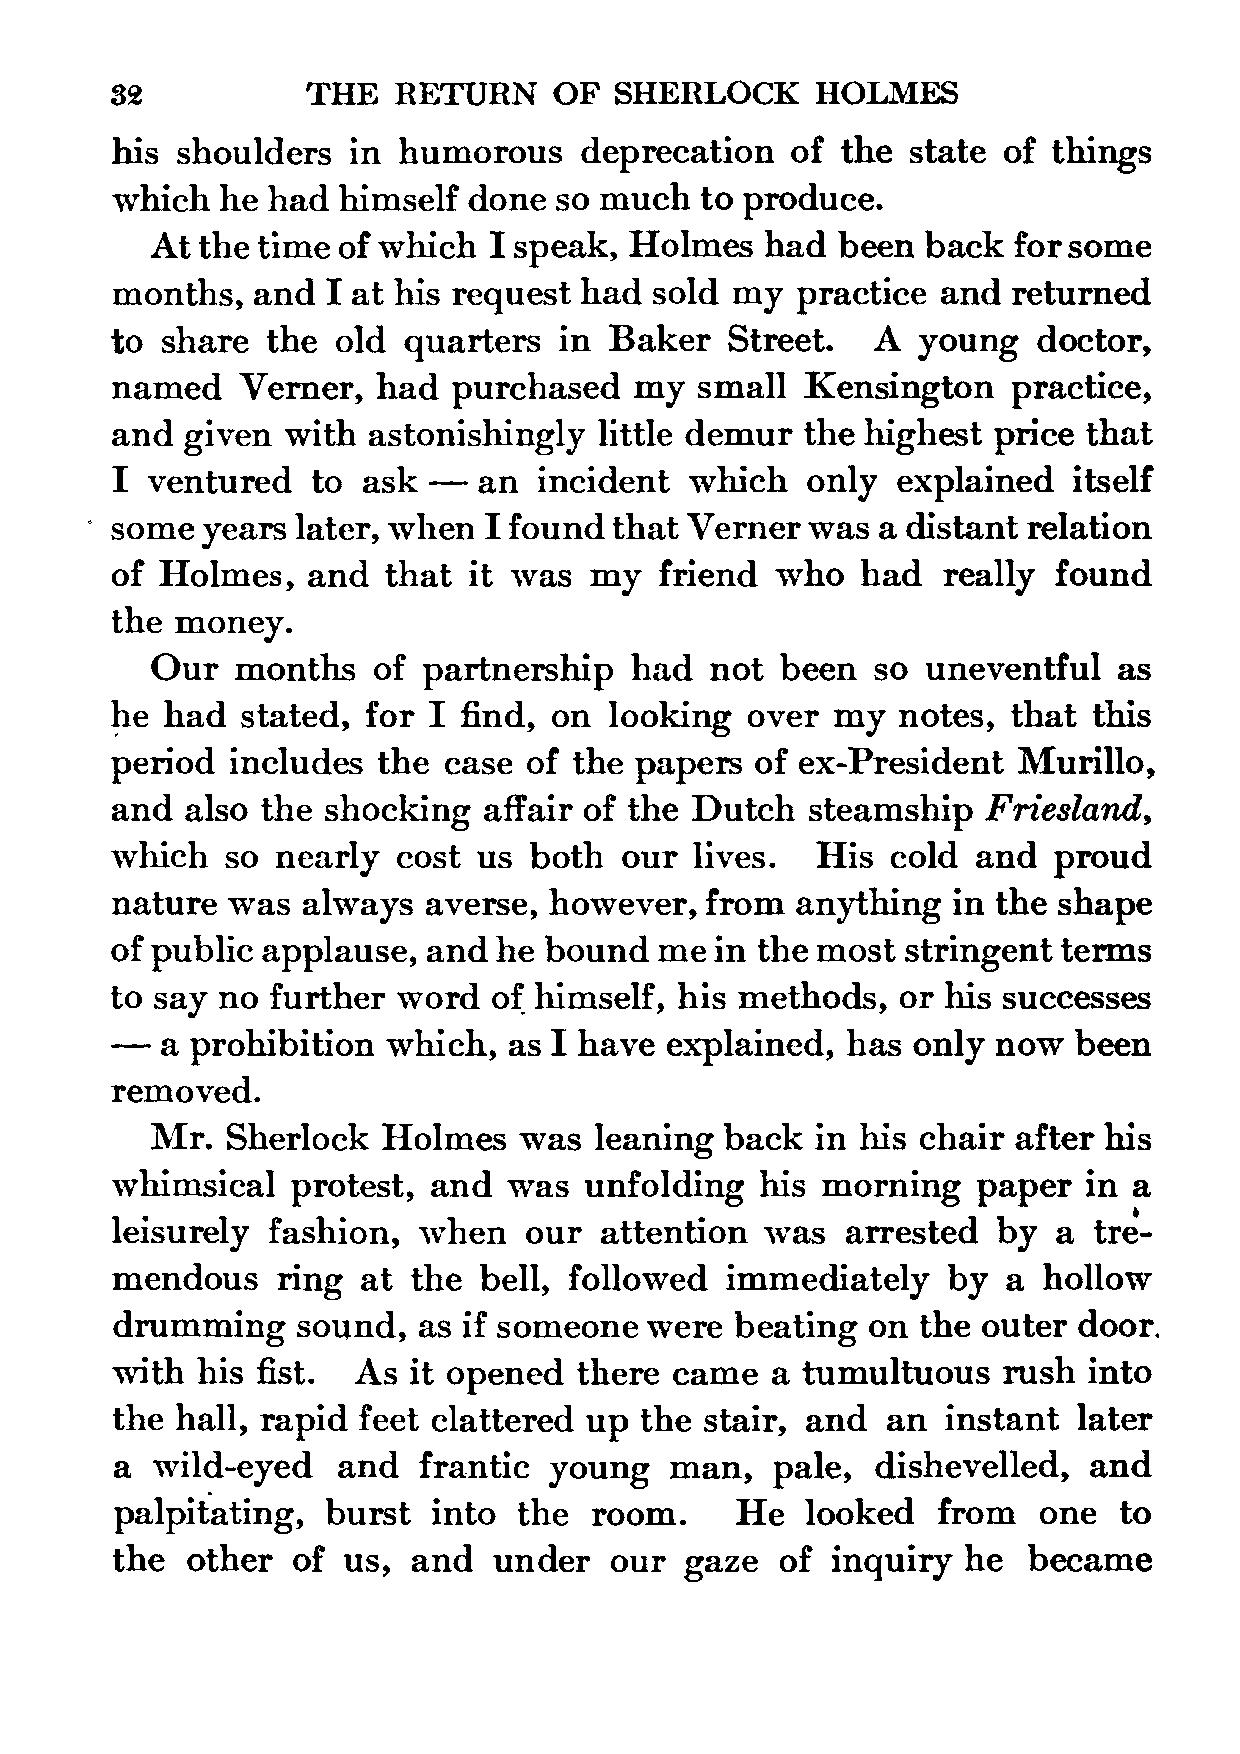content: (107, 132, 1155, 1584)
content_chapter: (302, 79, 960, 107)
content_pagenumber: (107, 76, 144, 110)
